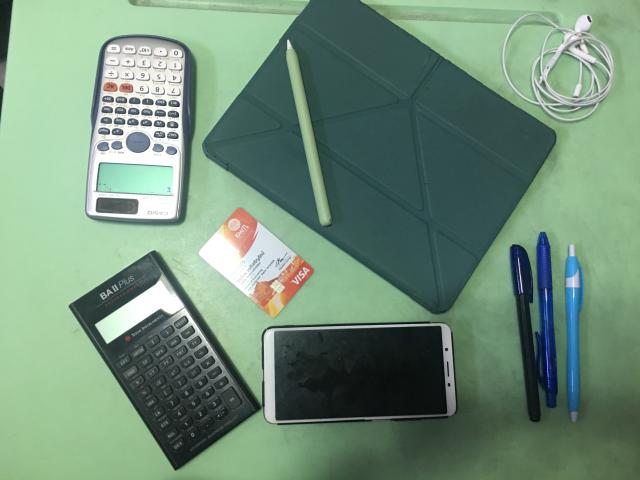Mobile phone: (262, 322, 456, 424)
Pen: (510, 245, 540, 421), (536, 231, 558, 408), (565, 245, 584, 422)
wire: (502, 12, 614, 121)
